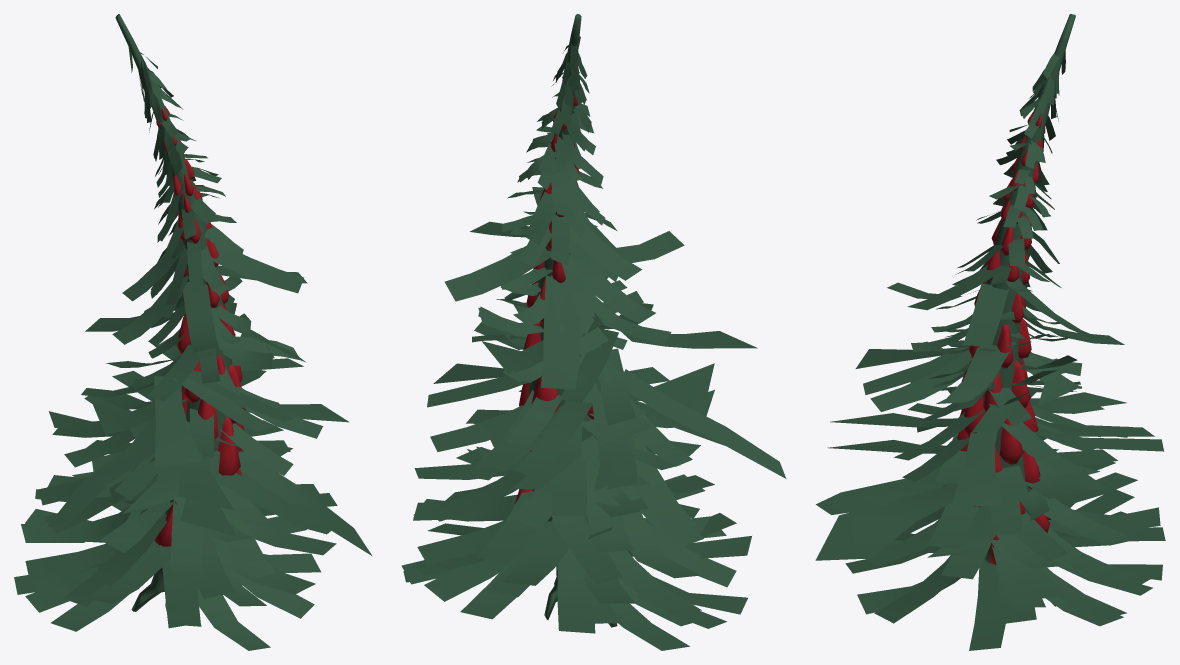
File: bushXenobis.FBX
3 renders of one model, left to right at view 1: azimuth 30°, elevation 25°; view 2: azimuth 150°, elevation 25°; view 3: azimuth 270°, elevation 25°, orthographic. The views are drawn at different scales.
Parts seen in each view (by area): view 1: bushXenobis_LOD0; view 2: bushXenobis_LOD0; view 3: bushXenobis_LOD0.
Boxes of the visible parts, bbox=[...] form: bushXenobis_LOD0: bbox=[14, 14, 372, 650]; bushXenobis_LOD0: bbox=[401, 14, 786, 650]; bushXenobis_LOD0: bbox=[815, 14, 1165, 650].
Size of what is drawn, in the model's own units: 2 by 3.72 by 1.99.
